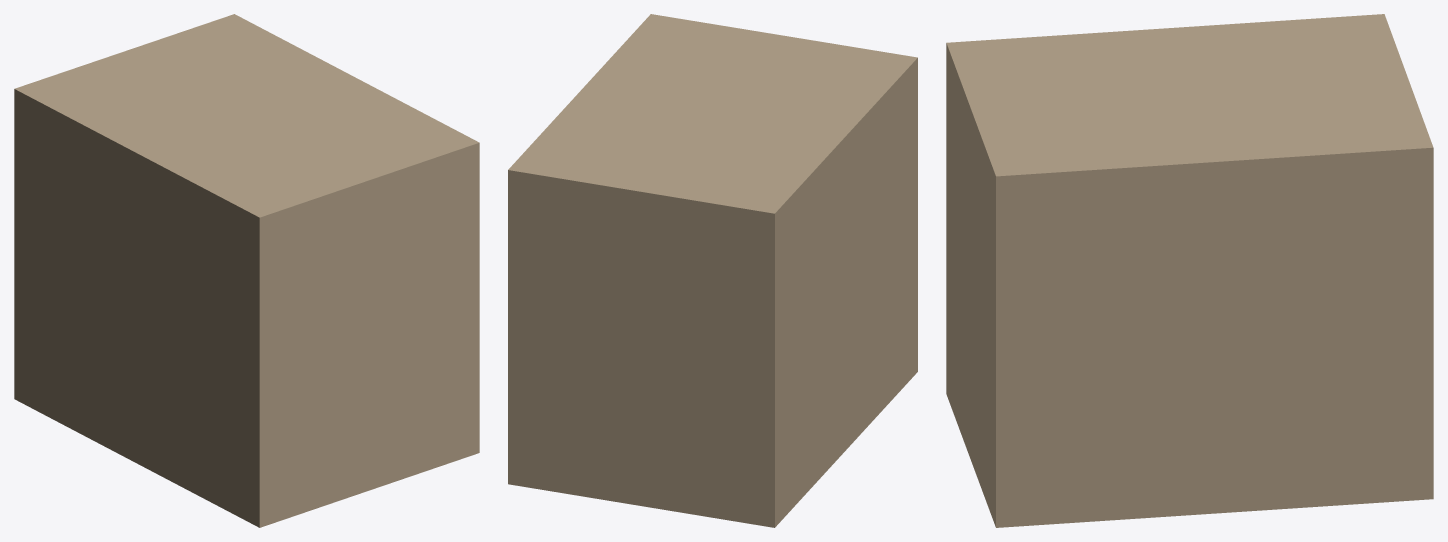
The model's file is bld_99867657.dae.
The picture shows the model from 3 angles, left to right: view 1: azimuth 30°, elevation 25°; view 2: azimuth 150°, elevation 25°; view 3: azimuth 270°, elevation 25°; orthographic projection. The views are drawn at different scales.
Parts seen in each view (by area): view 1: bld_99867657; view 2: bld_99867657; view 3: bld_99867657.
Boxes of the visible parts, x1,y1,x2,y2 form: bld_99867657: [14, 14, 479, 527]; bld_99867657: [508, 14, 917, 527]; bld_99867657: [946, 14, 1433, 527].
Size of the model in its own units: 7.93 by 10.05 by 8.
